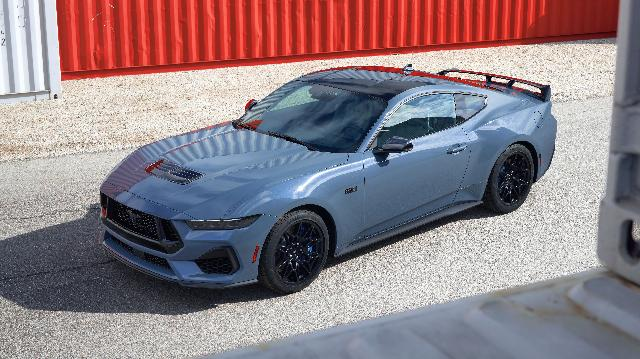ford-mustang: (100, 64, 558, 296)
